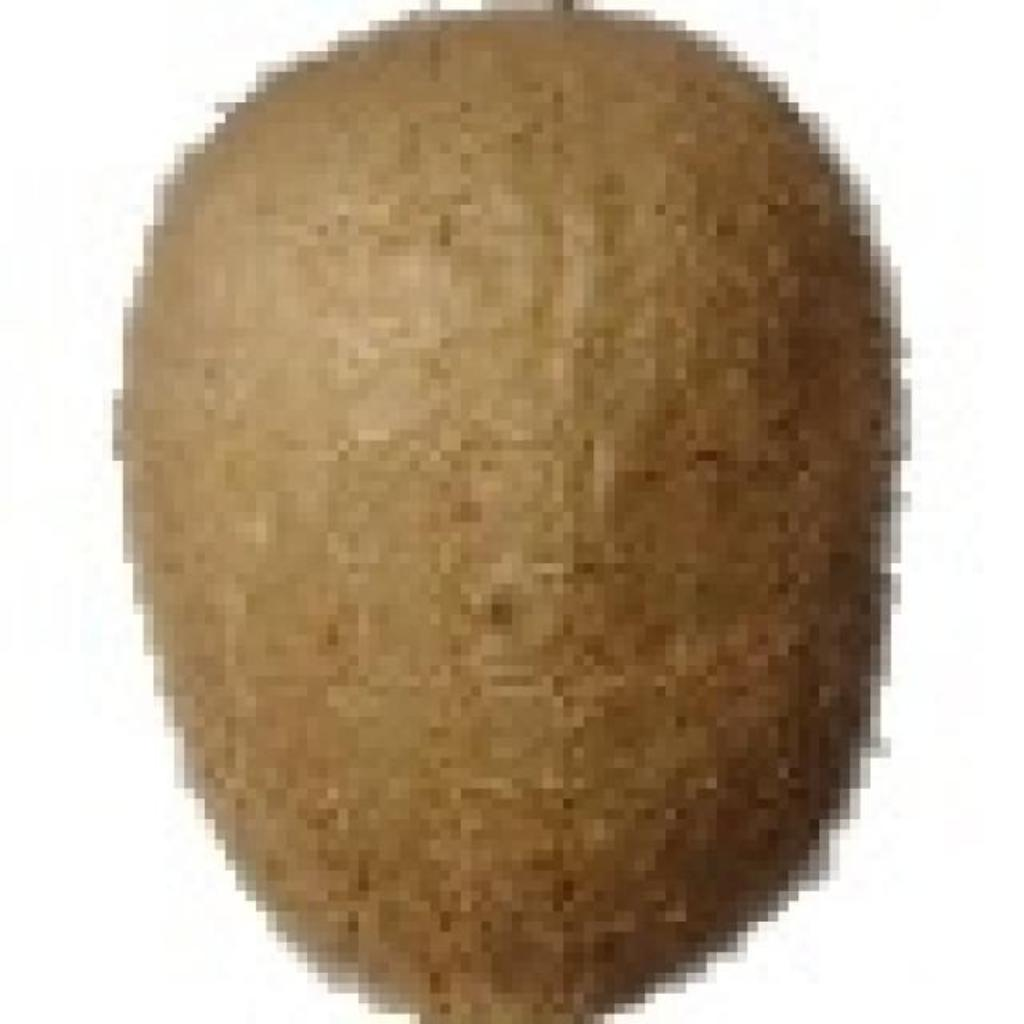kiwi: (113, 10, 870, 1004)
